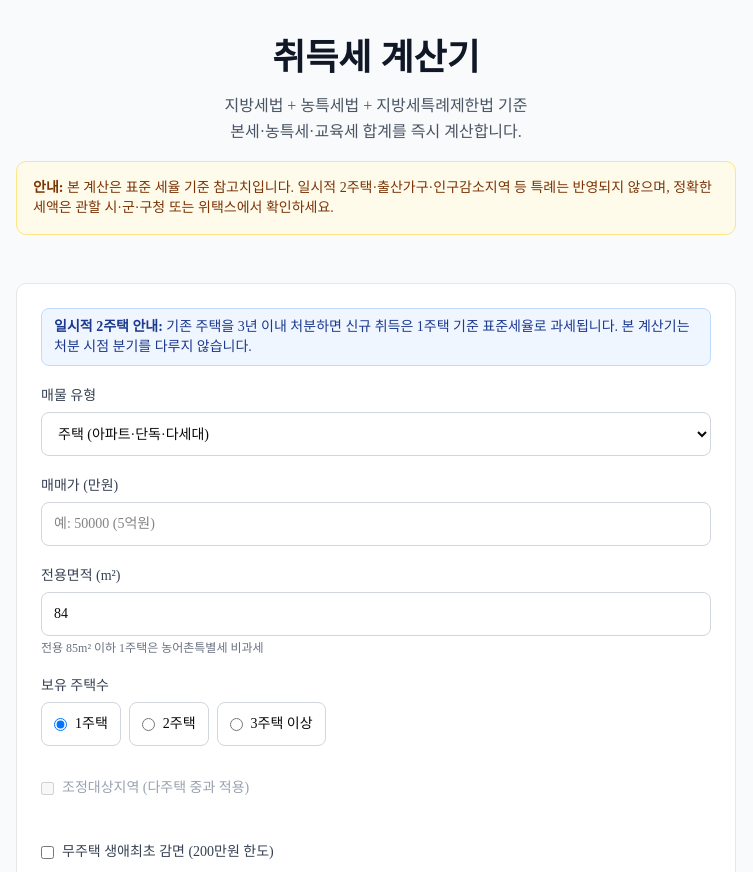
Test: /tools/acquisition-tax 페이지 › 초기화 버튼 — 매매가·면적·매물유형이 마운트 초기값으로 복귀
Type "130000" into the number field labelled "매매가 (만원)" at (376, 524), box left=41, top=502, right=711, bottom=546
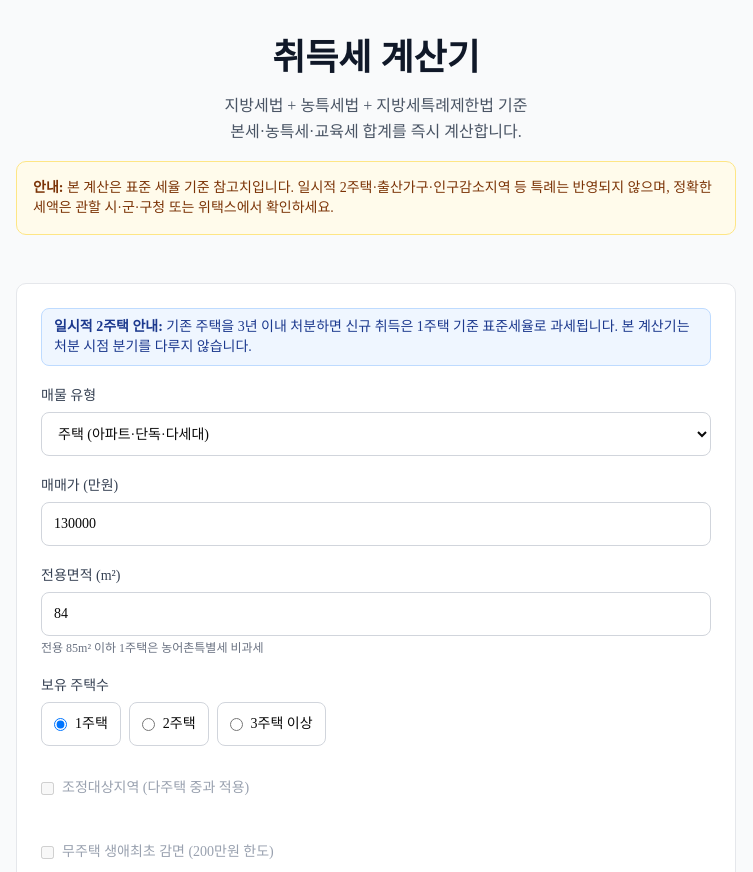
Replace the text in the number field labelled "전용면적 (m²)" with "120" at (376, 614), box left=41, top=592, right=711, bottom=636
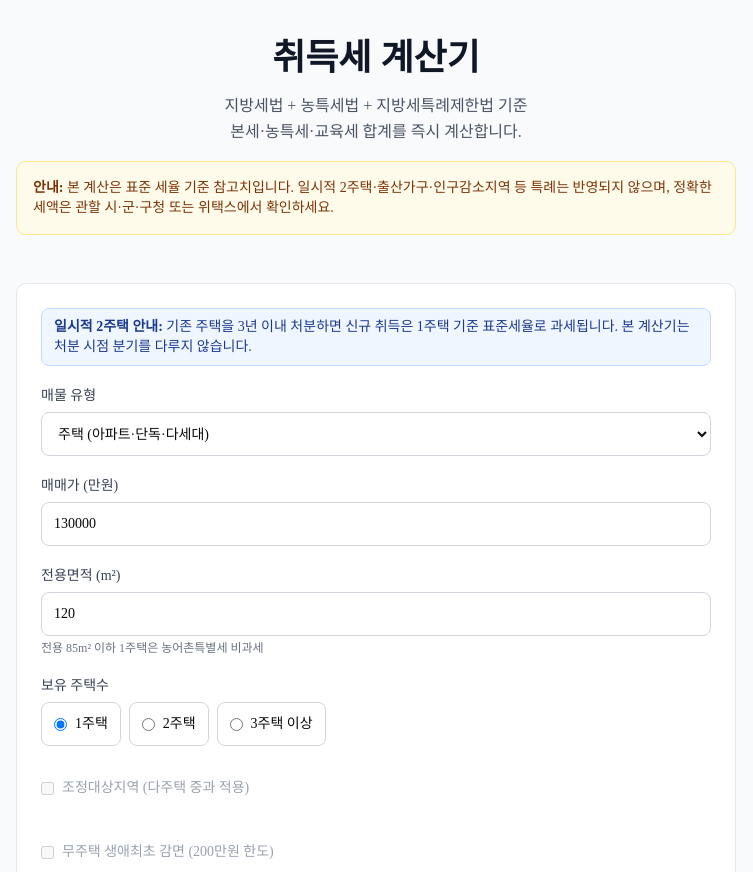
Select "오피스텔·상가 (4.6%)" in the dropdown labelled "매물 유형" at (376, 434), box left=41, top=412, right=711, bottom=456
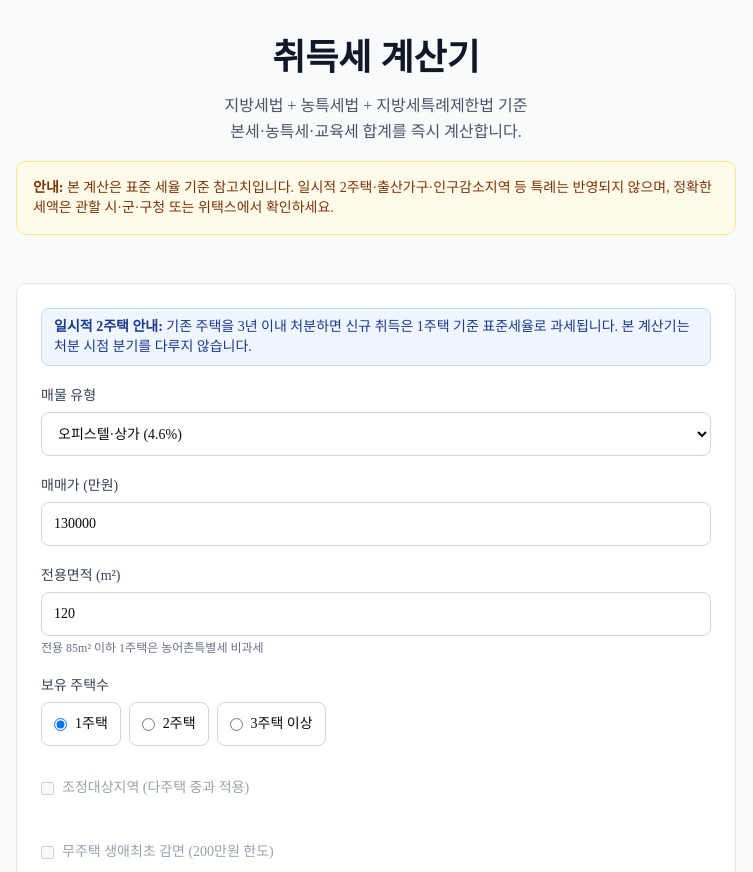
Click the radio button labelled "2주택" at (148, 724), box left=142, top=718, right=155, bottom=730
(page scrolled)
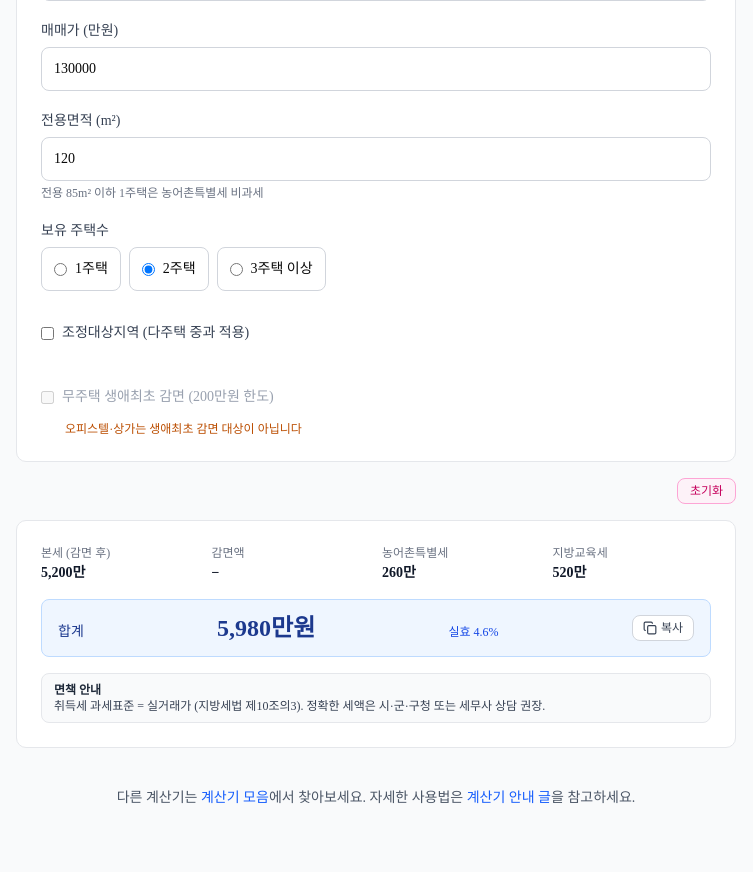
Click the button "초기화" at (706, 491), box left=677, top=478, right=736, bottom=504
(page scrolled)
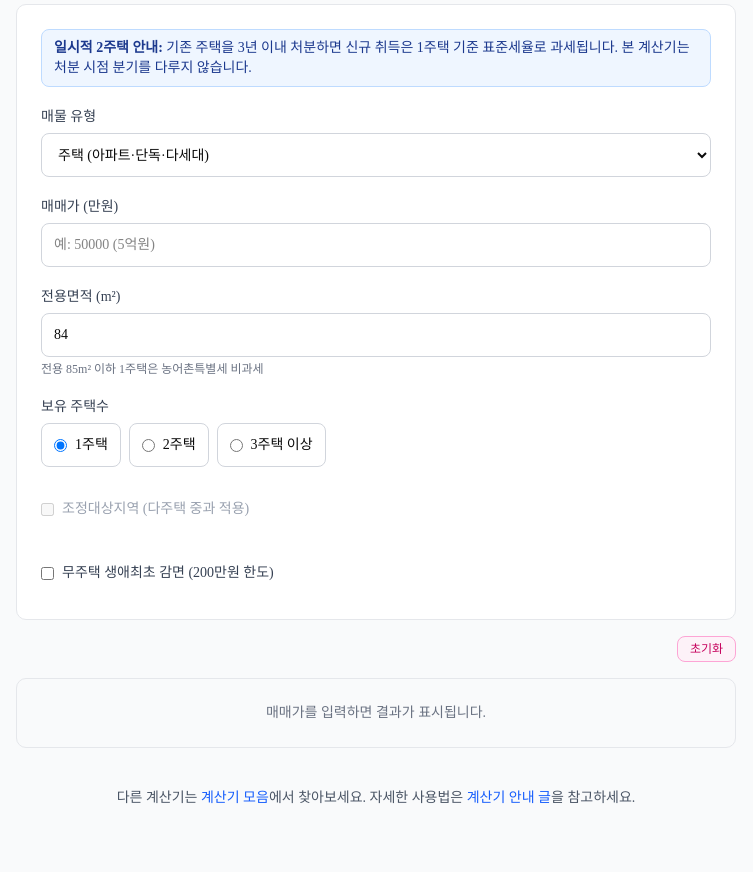
Now the text "매매가를 입력하면 결과가 표시됩니다." is shown, box left=16, top=678, right=736, bottom=748
Now the number field labelled "전용면적 (m²)" holds "84", box left=41, top=313, right=711, bottom=357
